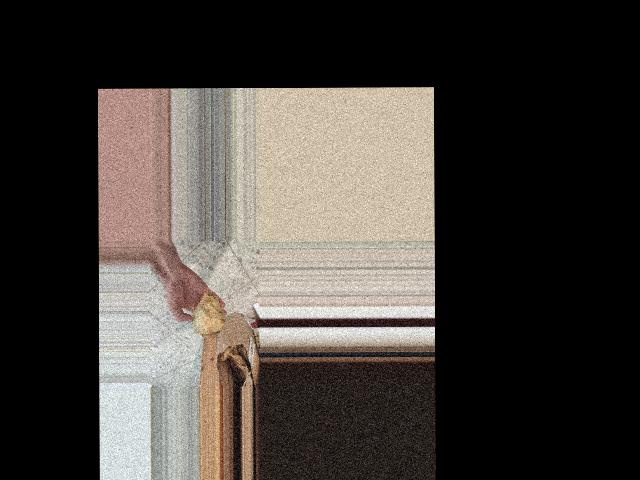onion: (191, 288, 226, 339)
